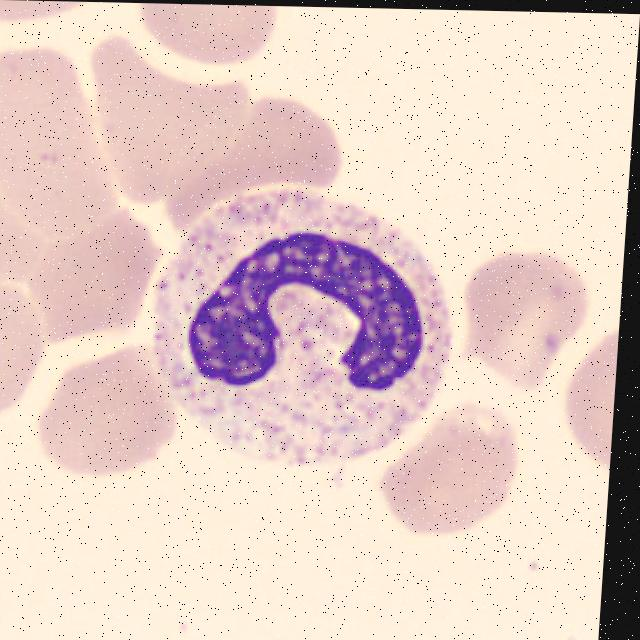neutrophil: (145, 170, 466, 476)
rbc: (82, 30, 247, 210), (0, 56, 140, 230), (169, 85, 344, 214), (26, 351, 190, 479), (20, 199, 167, 340), (456, 255, 575, 392), (387, 413, 522, 530), (553, 329, 619, 468), (129, 3, 275, 65), (0, 278, 52, 413), (0, 174, 52, 293), (0, 0, 88, 27)
